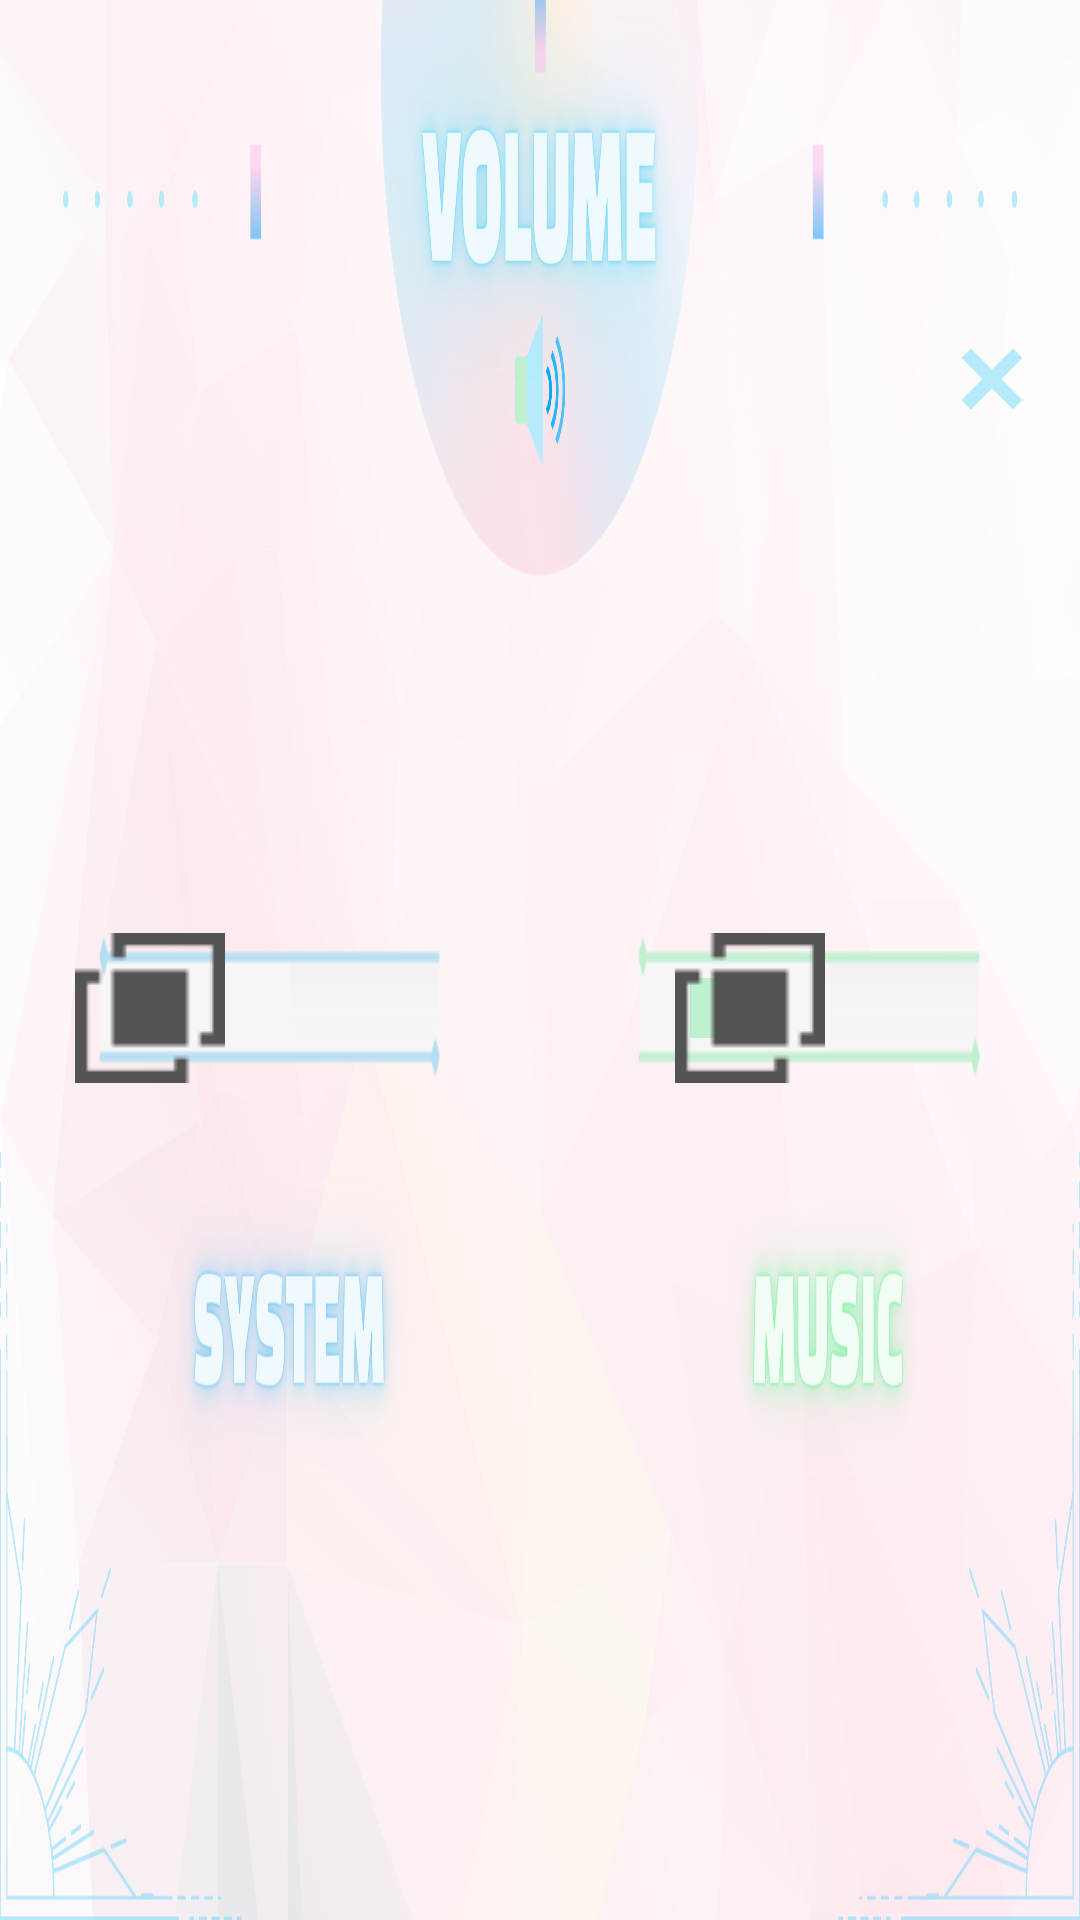

Named icons in this screenshot (1080 × 1920) and their centers, [x,y]:
back: [992,379]
